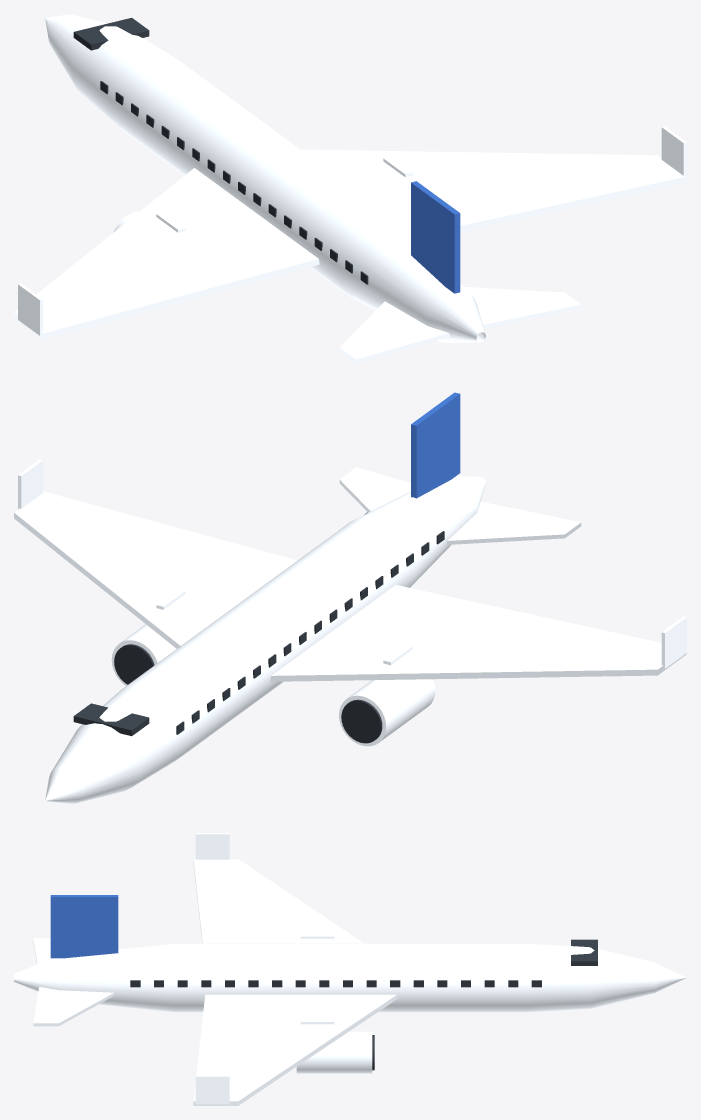
The model's file is airliner.glb.
3 renders of one model, top to bottom at view 1: azimuth 30°, elevation 25°; view 2: azimuth 150°, elevation 25°; view 3: azimuth 270°, elevation 25°, orthographic. The views are drawn at different scales.
Parts seen in each view (by area): view 1: Swept wing (×2), Streamlined fuselage, Tailplane (×2), Vertical stabilizer, Winglet (×2), Cockpit glazing; view 2: Swept wing (×2), Streamlined fuselage, Tailplane (×2), Turbofan nacelle (×2), Vertical stabilizer, Dark engine intake (×2), Winglet (×2), Cockpit glazing; view 3: Streamlined fuselage, Swept wing (×2), Vertical stabilizer, Turbofan nacelle, Tailplane, Winglet (×2), Cockpit glazing.
Part boxes in pixels (x1,y1,x2,y2): Swept wing (×2): (14,149,686,339); Streamlined fuselage: (45,14,485,342); Tailplane (×2): (339,287,581,363); Vertical stabilizer: (411,181,460,293); Winglet (×2): (18,126,686,335); Cockpit glazing: (73,17,149,50); Swept wing (×2): (14,491,686,681); Streamlined fuselage: (45,476,485,804); Tailplane (×2): (339,467,581,544); Turbofan nacelle (×2): (111,624,435,746); Vertical stabilizer: (411,392,460,498); Dark engine intake (×2): (114,644,382,743); Winglet (×2): (18,459,686,668); Cockpit glazing: (73,703,149,736); Streamlined fuselage: (14,943,686,1012); Swept wing (×2): (193,859,397,1105); Vertical stabilizer: (50,895,118,958); Turbofan nacelle: (296,1031,372,1073); Tailplane: (33,987,114,1026); Winglet (×2): (195,833,229,1104); Cockpit glazing: (571,939,597,965).
Bounding box in the file's own units: 34.18 × 8.7 × 39.9.
